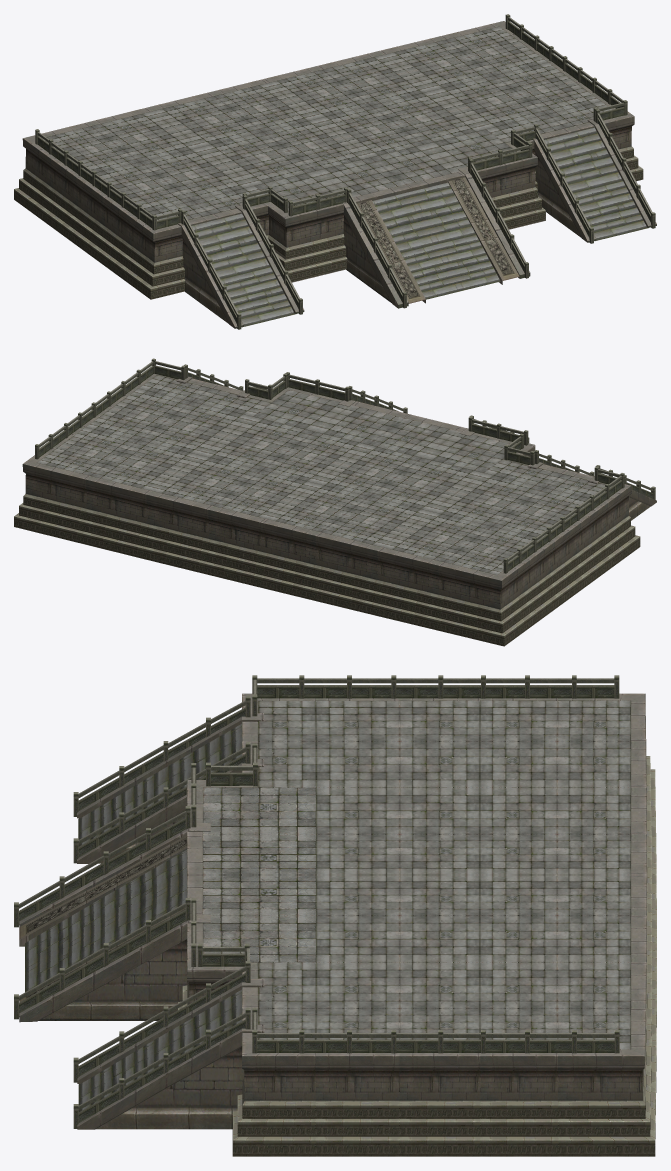
Rendered from QHS_dimian02.FBX.
3 views of the same model, one above another, from view 1: azimuth 30°, elevation 25°; view 2: azimuth 150°, elevation 25°; view 3: azimuth 270°, elevation 25° (orthographic). The views are drawn at different scales.
Visible parts, largest first — view 1: QHS_dimian02; view 2: QHS_dimian02; view 3: QHS_dimian02.
Boxes of the visible parts, box(x1,y1,x2,y2) form: QHS_dimian02: box(14, 14, 656, 329); QHS_dimian02: box(14, 358, 656, 646); QHS_dimian02: box(14, 675, 656, 1156).
Size of the model in its own units: 7751 by 1201 by 5675.
